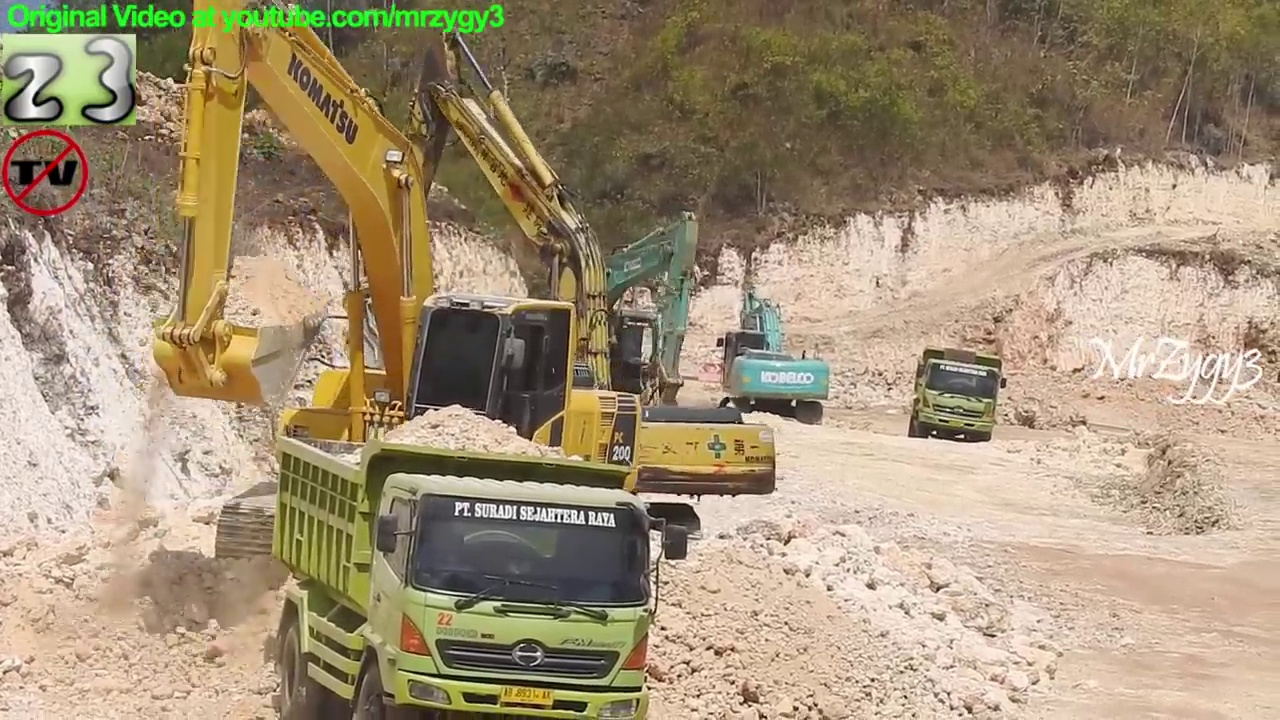excavator: (148, 1, 669, 600), (344, 23, 779, 567), (713, 278, 834, 427)
truck: (264, 420, 695, 720), (905, 345, 1010, 447)
